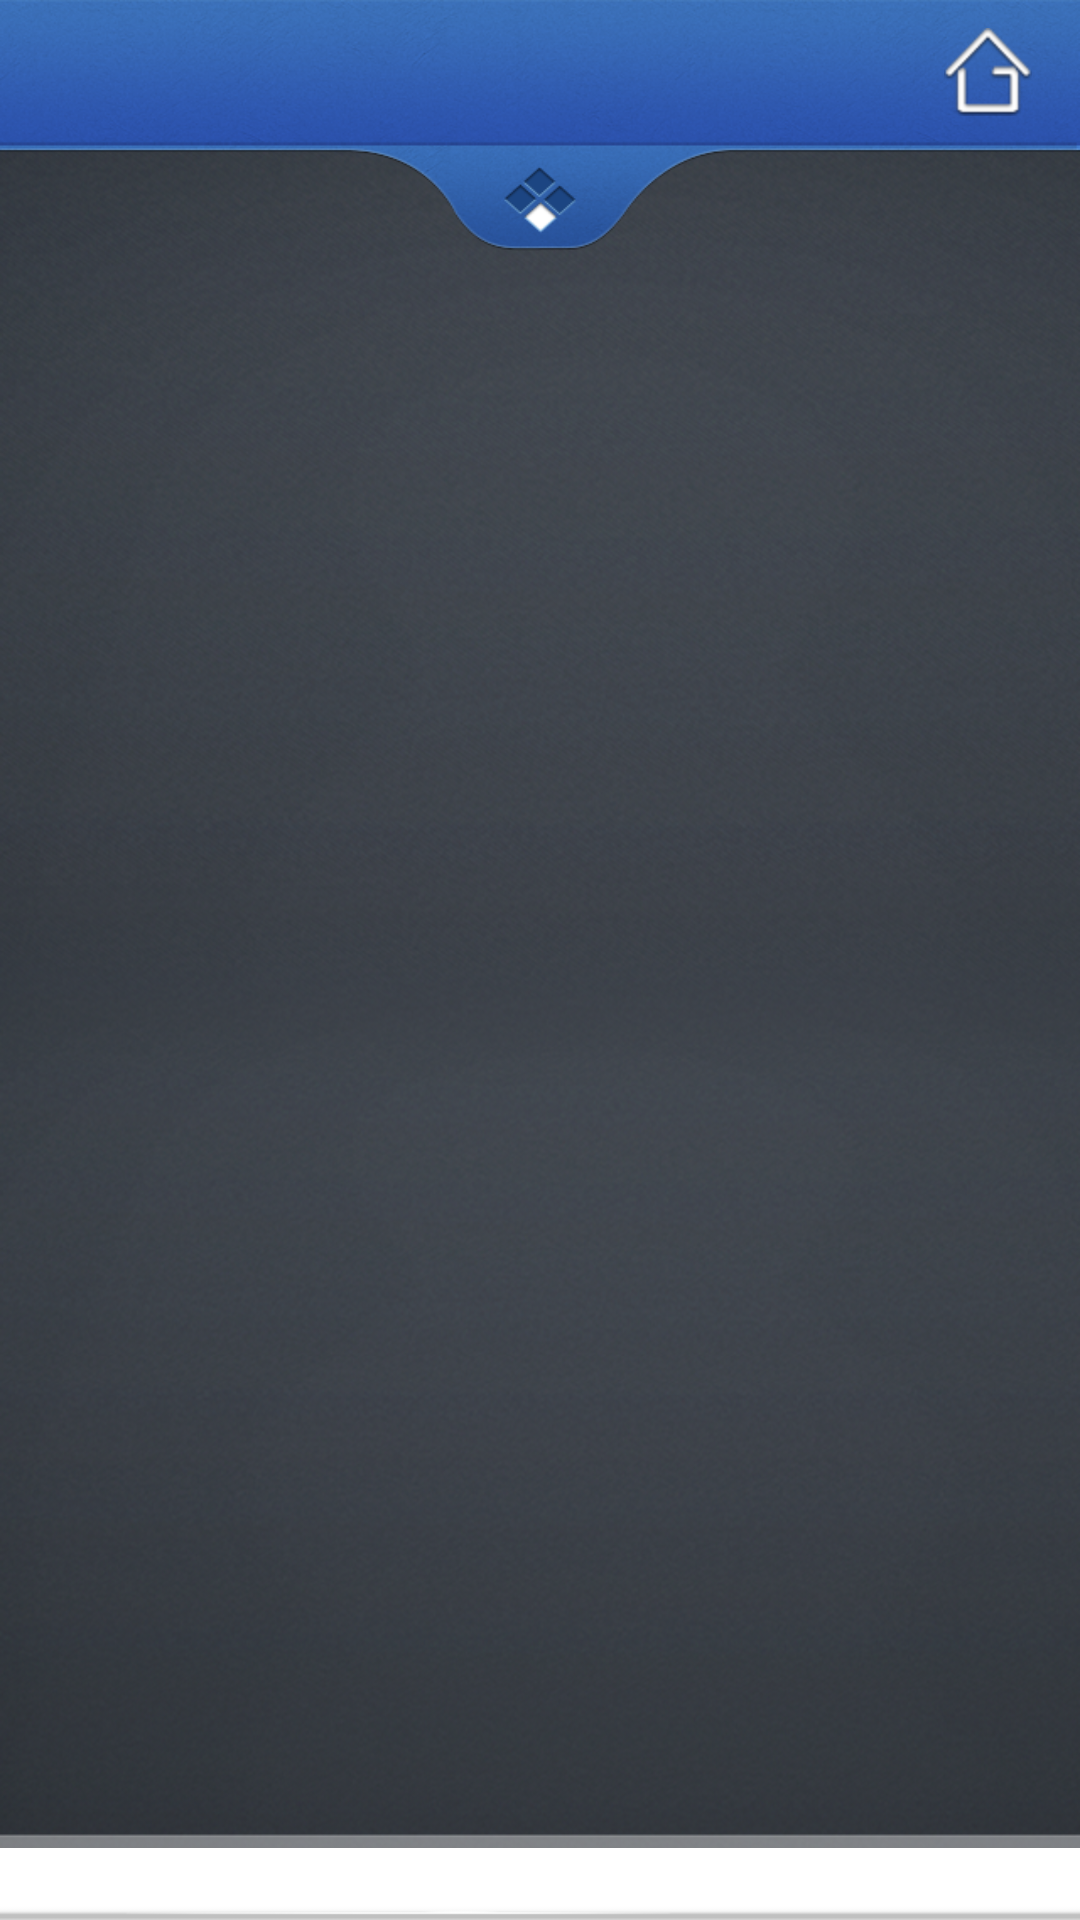

Icon click points for this 1080w x 1920h phone screenshot, format (x=x, y=y):
home: (x=988, y=72)
